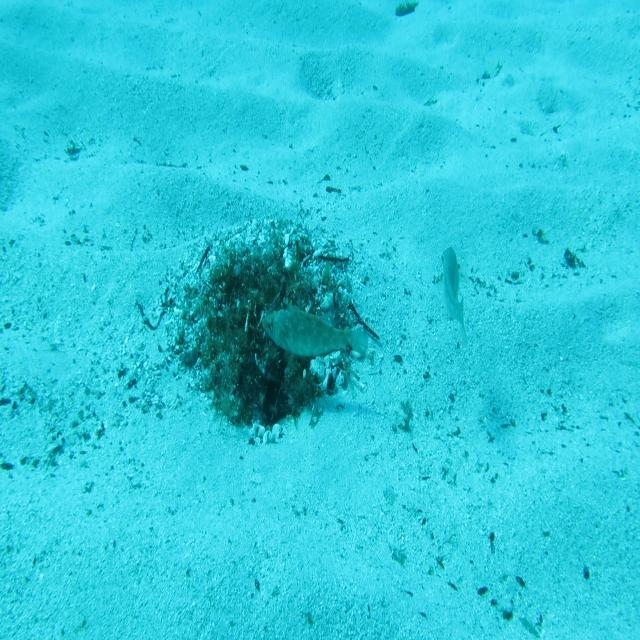FAN: (262, 295, 370, 364)
core_nest: (236, 272, 285, 306)
female: (439, 245, 466, 336)
nest: (165, 216, 366, 448)
vegetation: (393, 2, 418, 21)
